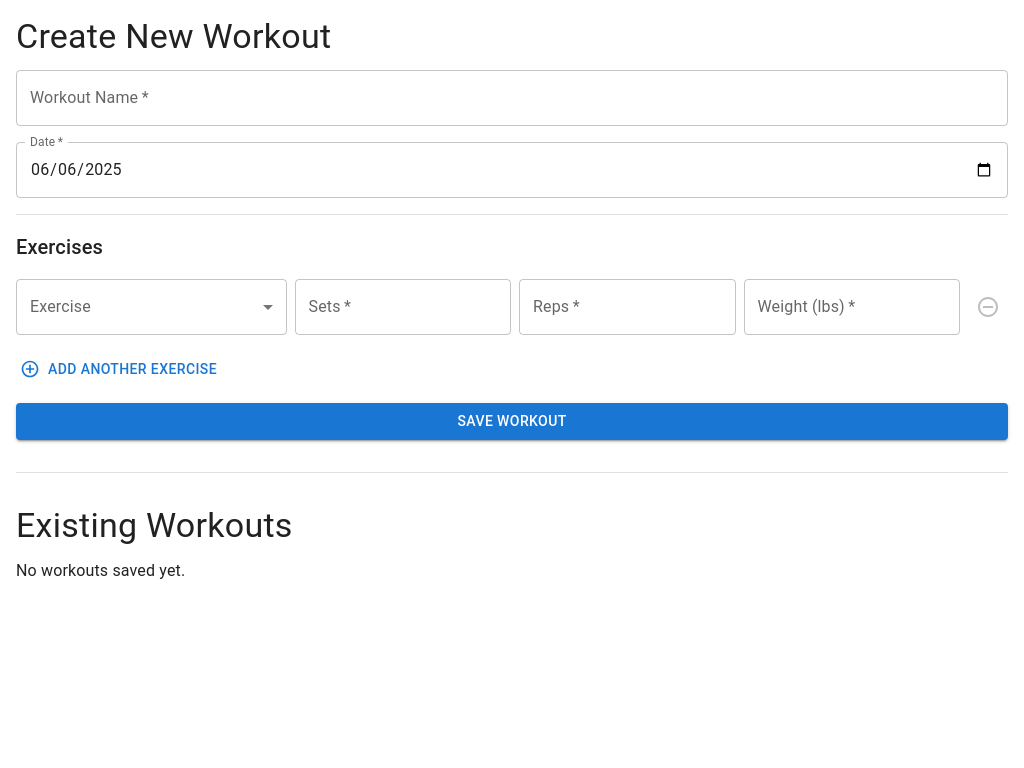
Scenario: WorkoutsPage – basic behaviors › 3. clicking “Add Another Exercise” adds a new exercise row
The image size is (1024, 768).
Expected: the number of dropdowns named "Exercise" is 1, x1=16 y1=279 x2=287 y2=335
Click the button "Add Another Exercise" at [120, 369], box x1=16 y1=351 x2=225 y2=387
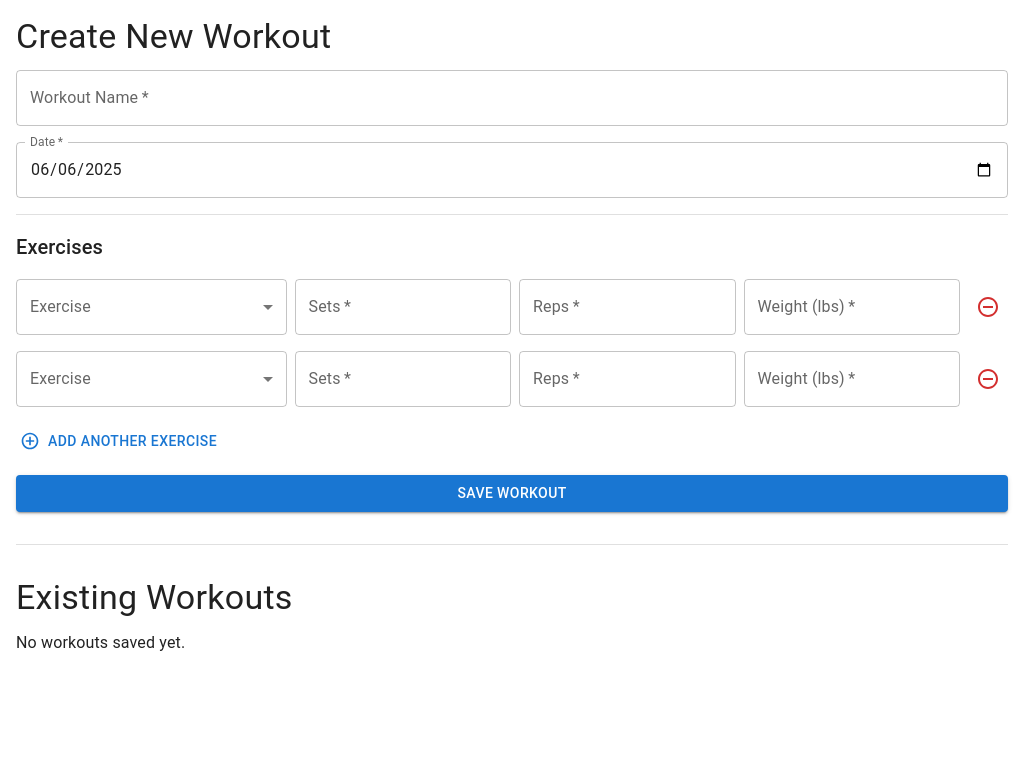
Expected: the number of dropdowns named "Exercise" is 2, x1=16 y1=279 x2=287 y2=335; x1=16 y1=351 x2=287 y2=407
